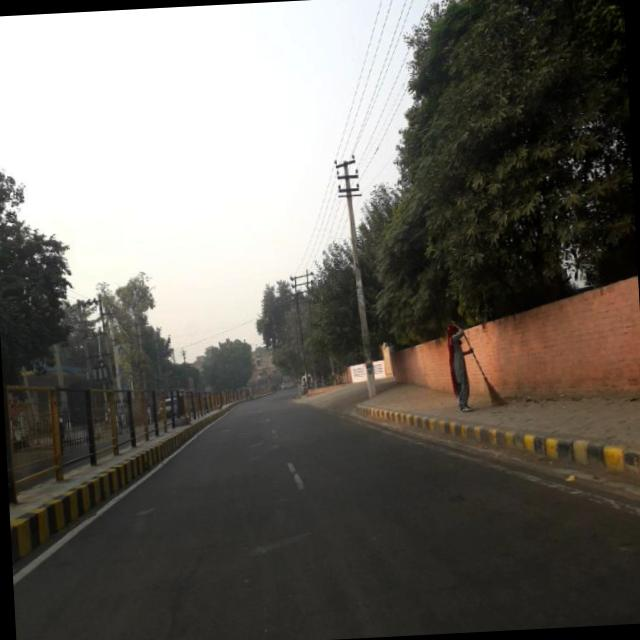pothole: (138, 550, 217, 640)
